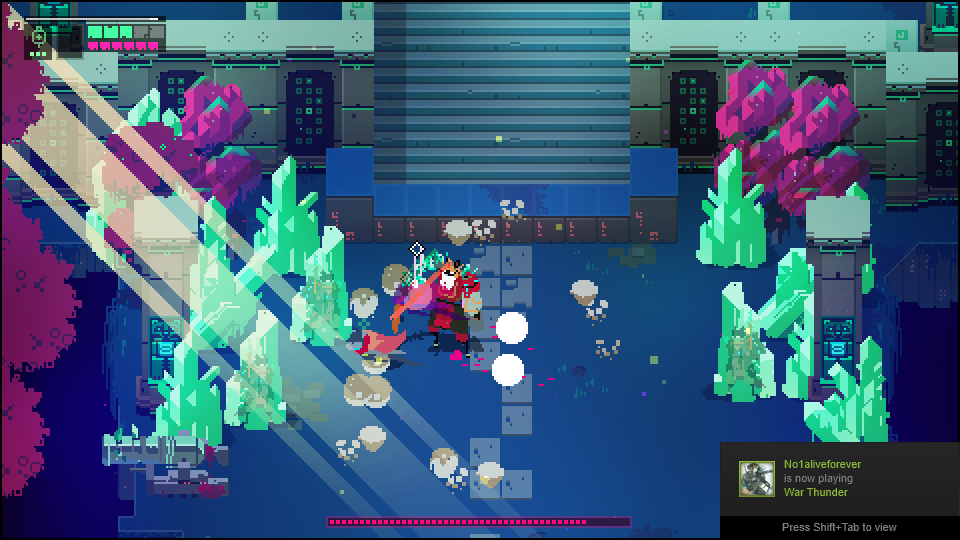hanged_man: (395, 243, 485, 360)
player: (340, 324, 410, 357)
